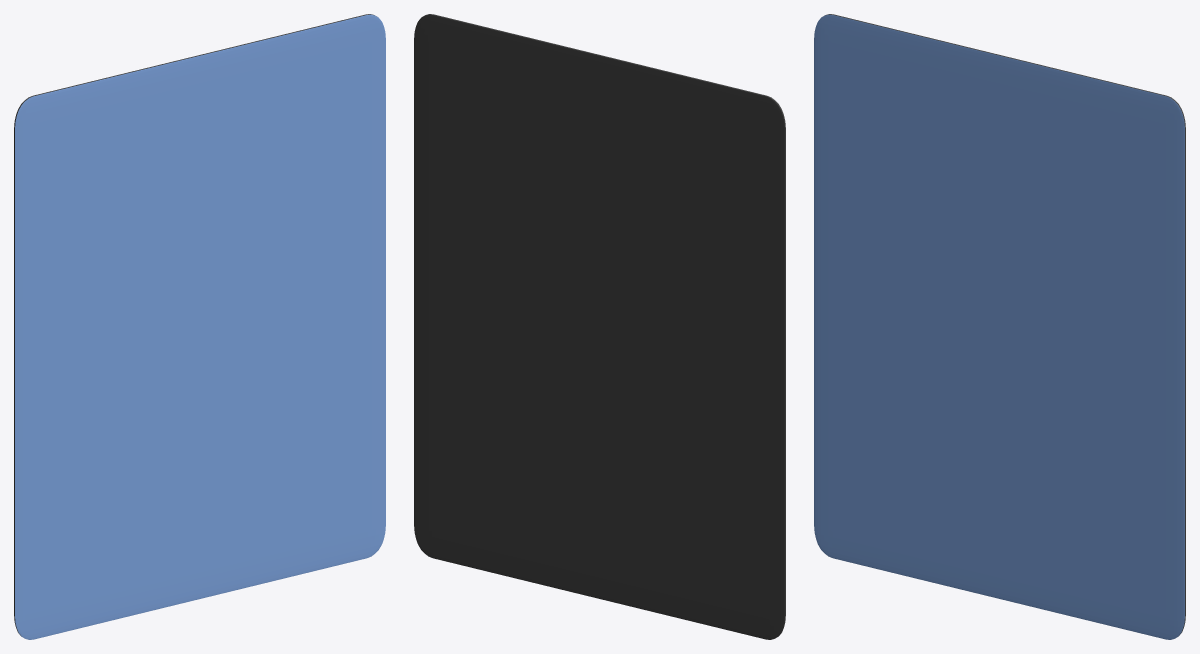
File: card.fbx
3 views of the same model, side by side, from view 1: azimuth 30°, elevation 25°; view 2: azimuth 150°, elevation 25°; view 3: azimuth 330°, elevation 25° (orthographic).
Parts seen in each view (by area): view 1: Cube; view 2: Cube; view 3: Cube.
Part boxes in pixels (box(x1,y1,x2,y2)): Cube: box(14, 14, 385, 639); Cube: box(414, 14, 785, 639); Cube: box(814, 14, 1185, 639).
Bounding box in the file's own units: 120 × 168 × 0.7463.
